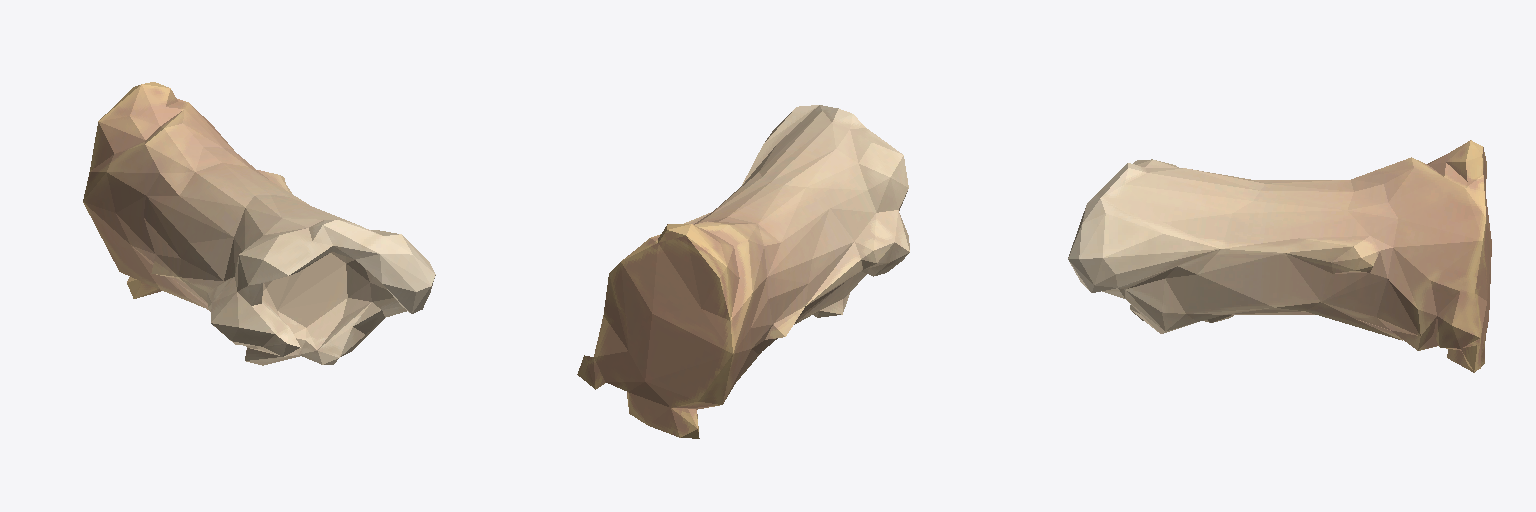
3 views of the same model, side by side, from view 1: azimuth 30°, elevation 25°; view 2: azimuth 150°, elevation 25°; view 3: azimuth 270°, elevation 25° (orthographic).
Parts seen in each view (by area): view 1: DN_Vd_Candle_A; view 2: DN_Vd_Candle_A; view 3: DN_Vd_Candle_A.
Boxes of the visible parts, x1,y1,x2,y2 form: DN_Vd_Candle_A: [83, 82, 435, 365]; DN_Vd_Candle_A: [577, 105, 909, 438]; DN_Vd_Candle_A: [1068, 140, 1491, 372].
Bounding box in the file's own units: 0.7025 × 0.7634 × 1.38.
1 materials, 1 textured.